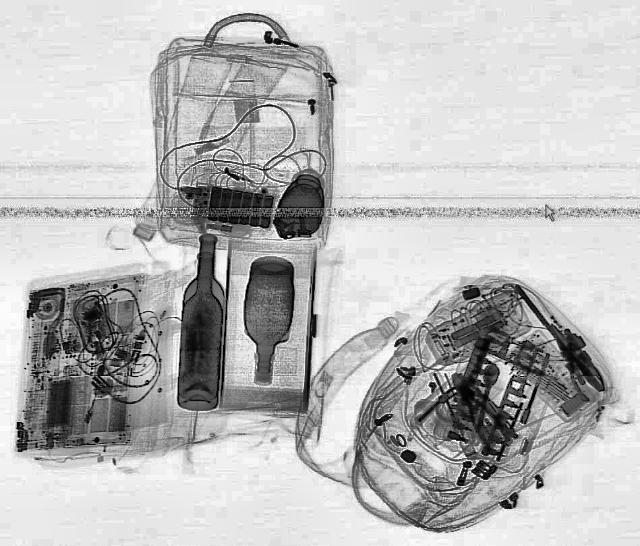Pliers: (438, 367, 516, 449), (538, 320, 610, 402)
